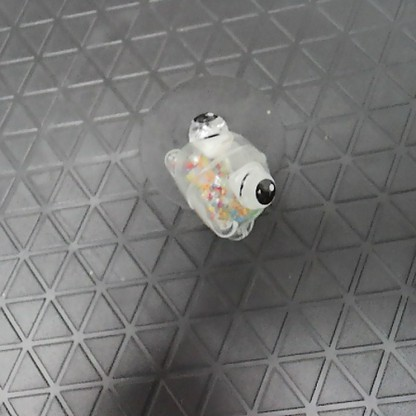whitefish: (161, 108, 282, 243)
